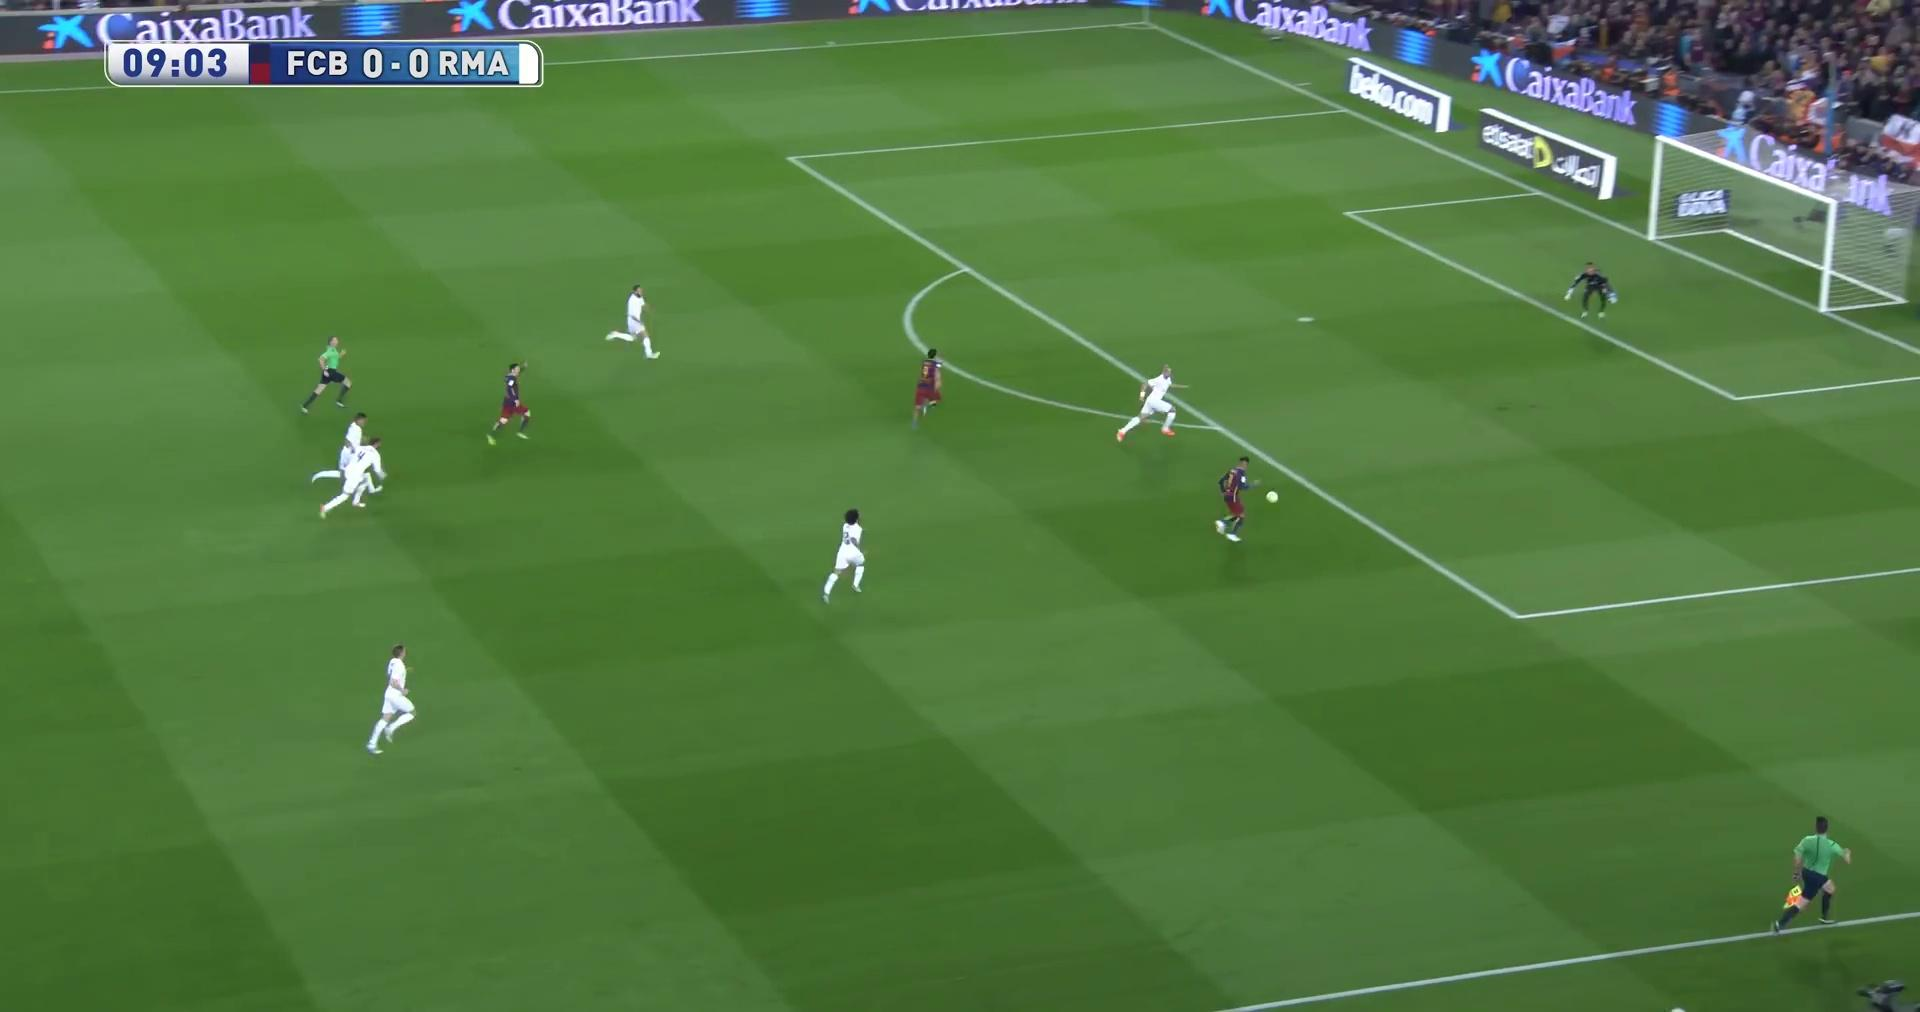ball: (1264, 488, 1281, 507)
goalkeeper: (1560, 259, 1622, 324)
player: (307, 410, 384, 497), (1114, 361, 1193, 445), (365, 638, 420, 758), (318, 433, 391, 523), (474, 356, 538, 448), (602, 281, 665, 363), (820, 505, 871, 606), (1212, 453, 1262, 545), (908, 345, 947, 427)
referee: (1770, 813, 1854, 943), (296, 335, 355, 417)
